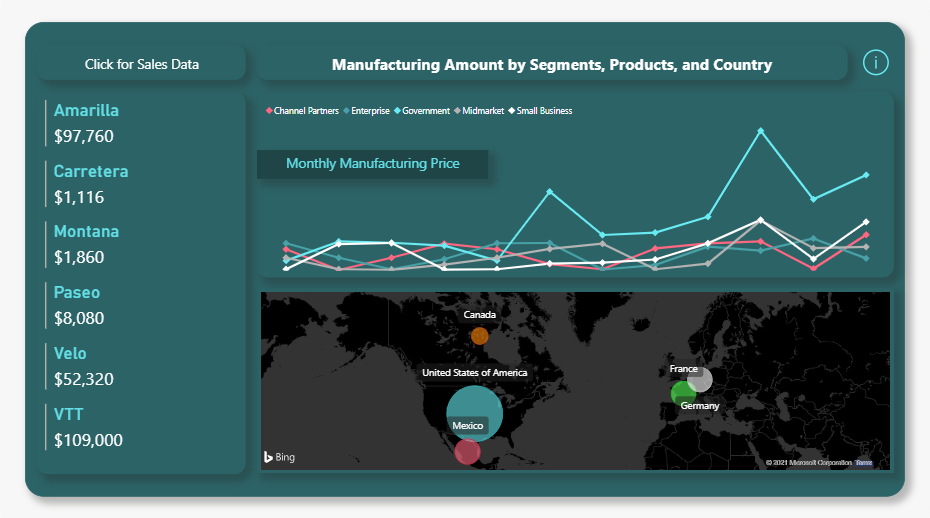

What the dashboard file says about the page in this screenshot:
{"tool":"powerbi","page":{"name":"Duplicate of Top 5 & Units Sold","canvas":[1280,720],"ordinal":3},"visuals":[{"type":"basicShape","box":[32,32,1216,656],"z":0},{"type":"lineChart","fields":{"Category":["financials.Date.Variation.Date Hierarchy.Month"],"Series":["financials.Segment"],"Y":["Sum(financials.Manufacturing Price)"]},"box":[352,128,880,256],"z":1000},{"type":"map","title":"Manufacturing Price by Country","fields":{"Category":["financials.Country"],"Size":["Sum(financials.Manufacturing Price)"]},"box":[352,400,880,256],"z":2000},{"type":"multiRowCard","title":"Multi-row card Manufacturing Data","fields":{"Values":["financials.Product","Sum(financials.Manufacturing Price)"]},"box":[48,128,288,528],"z":3000},{"type":"actionButton","title":"Info Button","box":[1168,64,64,48],"z":7000},{"type":"actionButton","title":"Sales Button","box":[48,64,288,48],"z":8000},{"type":"textbox","title":"Manufacturing Title","box":[352,64,816,48],"z":10000},{"type":"textbox","title":"Manufacturing Tab","box":[352,208,320,40],"z":13000}]}

Visuals, with their boxes in screenshot pixels (x1, y1, x2, y2), scaled from the page's 1280x720 canvas onto the 930x518 screenshot:
basicShape: bbox(23, 23, 907, 495)
lineChart - financials.Date.Variation.Date Hierarchy.Month x financials.Segment: bbox(256, 92, 895, 276)
"Manufacturing Price by Country" map: bbox(256, 288, 895, 472)
"Multi-row card Manufacturing Data" multiRowCard: bbox(35, 92, 244, 472)
"Info Button" actionButton: bbox(849, 46, 895, 81)
"Sales Button" actionButton: bbox(35, 46, 244, 81)
"Manufacturing Title" textbox: bbox(256, 46, 849, 81)
"Manufacturing Tab" textbox: bbox(256, 150, 488, 178)
